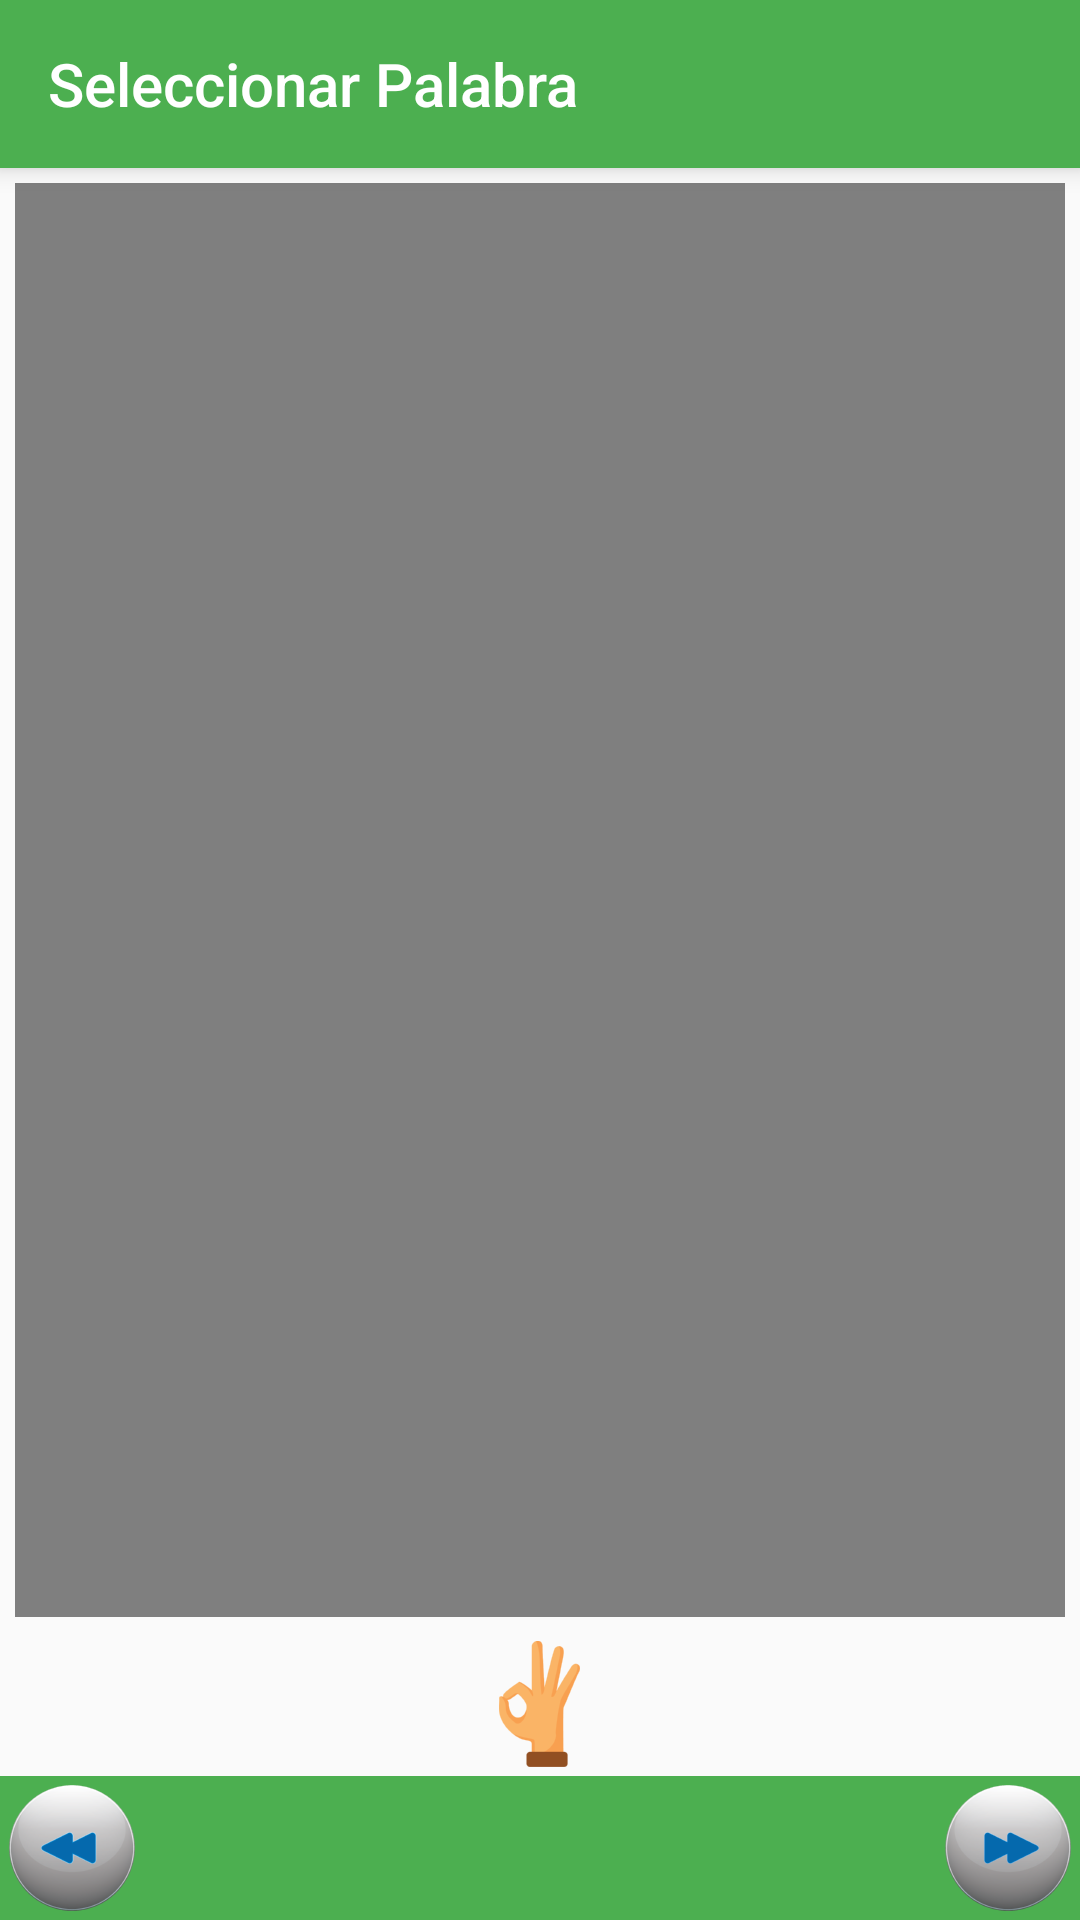

Named icons in this screenshot (1080 x 1920) and their centers, point (x, y):
back: point (72, 1848)
next: point (1008, 1848)
